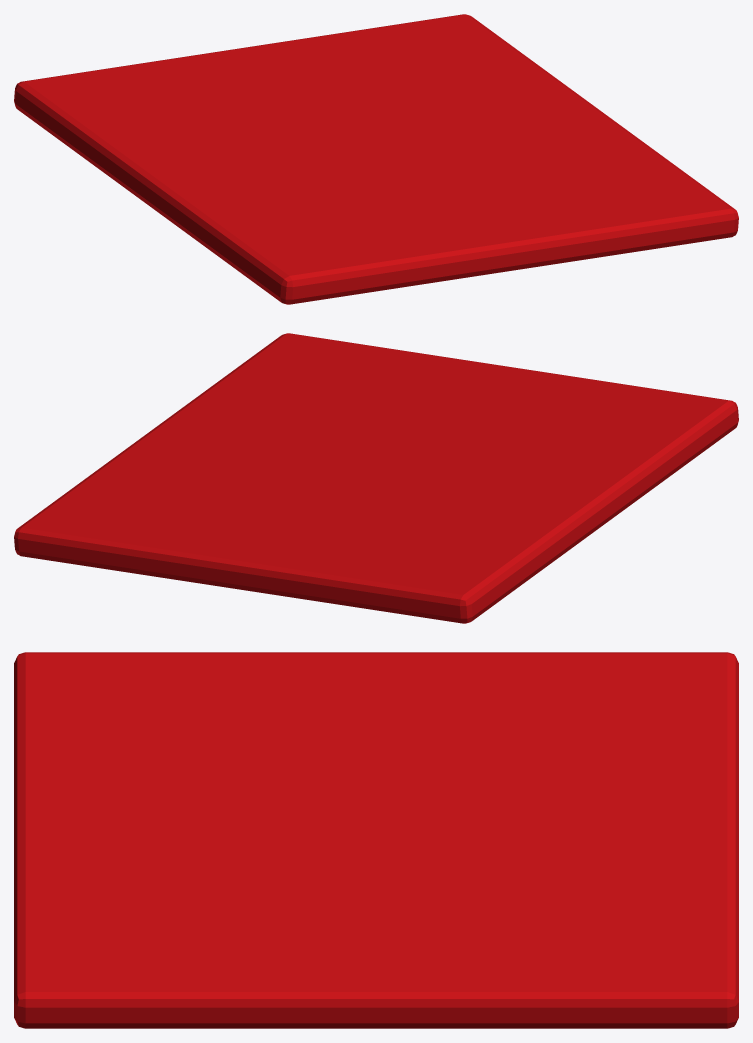
File: hood.obj
The picture shows the model from 3 angles, top to bottom: view 1: azimuth 30°, elevation 25°; view 2: azimuth 150°, elevation 25°; view 3: azimuth 270°, elevation 25°; orthographic projection. The views are drawn at different scales.
Visible parts, largest first — view 1: Cube; view 2: Cube; view 3: Cube.
Part boxes in pixels (x1,y1,x2,y2): Cube: (14, 14, 738, 304); Cube: (14, 333, 738, 623); Cube: (14, 652, 738, 1028).
Size of the model in its own units: 0.8487 by 0.1215 by 0.88.
